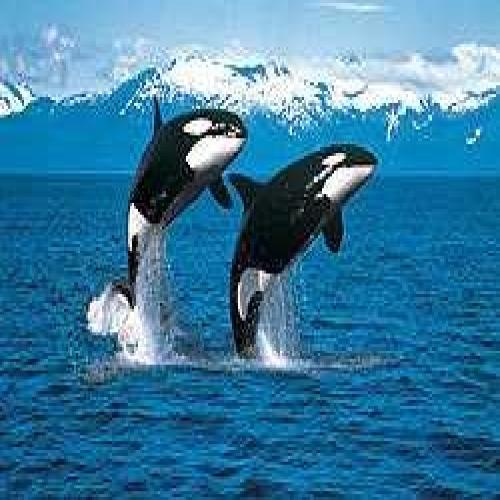killer_whale-endangered: (219, 132, 391, 372), (99, 88, 255, 326)
